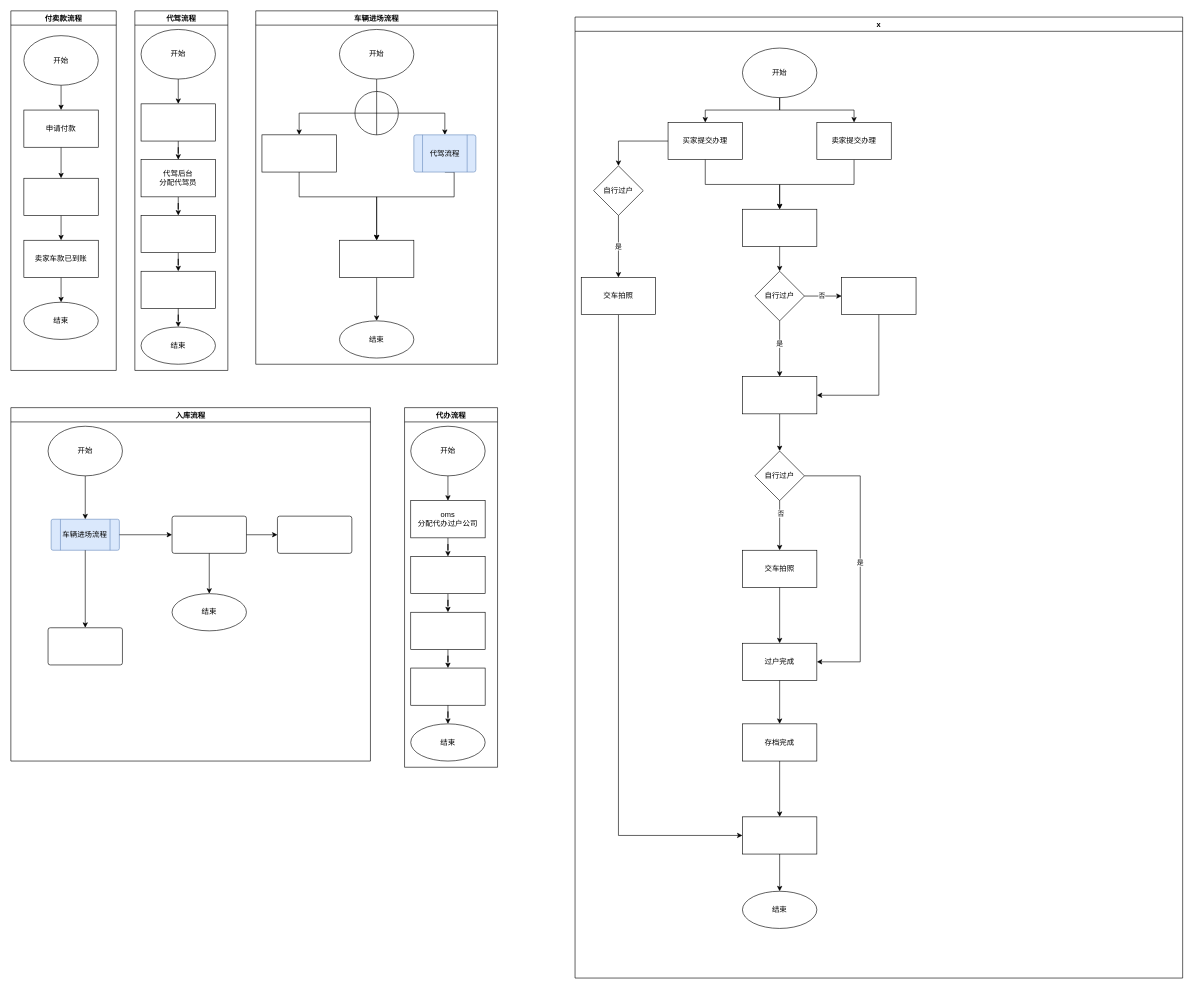
Some shapes in this 1194 by 989 pixel diagram are drawn without their labels. The centre of each missing label's shape, as x and y in pixels:
"oms 分配代驾公司" goes at point 177,122.
"买、卖家提交完成" goes at point 779,227.
"买家验车" goes at point 314,534.
"代驾app 交车" goes at point 177,289.
"代驾app 提车" goes at point 177,234.
"存档完成 & 交车拍照（确认交车）" goes at point 779,835.
"手续入库" goes at point 84,646.
"自提自送" goes at point 298,153.
"财务支付" goes at point 60,196.
"车辆入库" goes at point 208,534.
"车辆进场" goes at point 376,258.
"过户分配" goes at point 878,296.
"过户跟踪" goes at point 779,395.
"闪办app 临牌审核" goes at point 447,630.
"闪办app 费用补充" goes at point 447,686.
"闪办app 过户票审核" goes at point 447,575.
